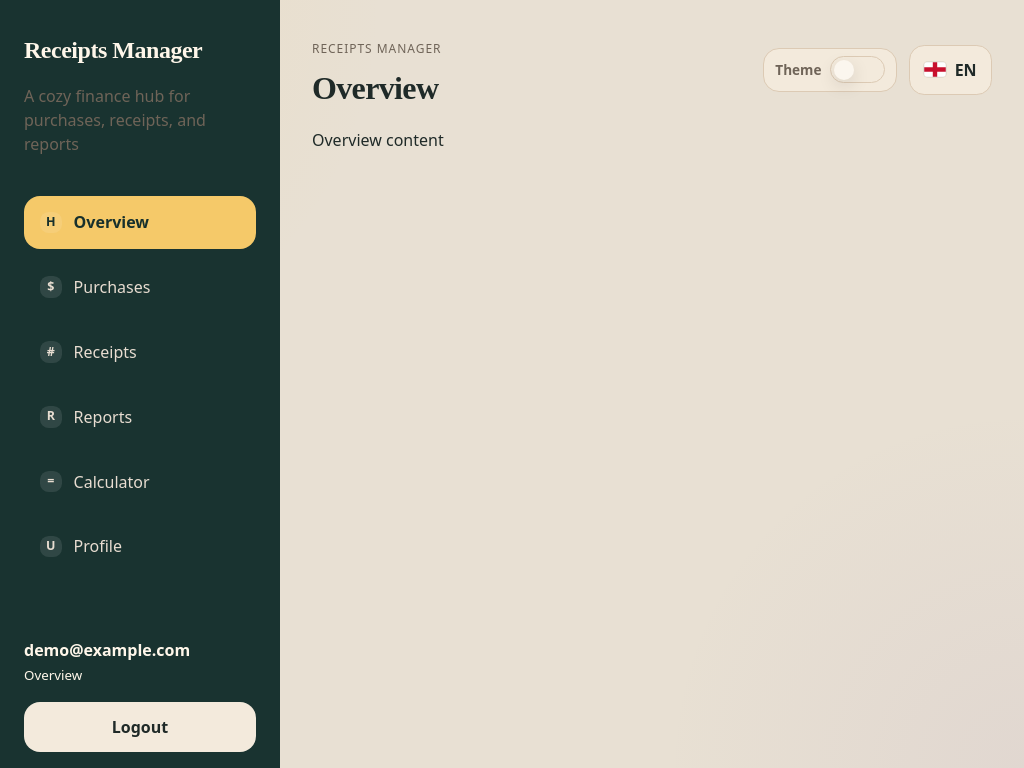
Test case: app layout › opens the calculator from the sidebar and keeps it outside the page content
Check: the element with test id "sidebar" is shown, box [0, 0, 280, 767]
Check: the element with test id "content-area" reads "Overview content", box [312, 129, 444, 151]
Click the button with test id "sidebar-calculator-toggle": (140, 482) [24, 455, 256, 508]
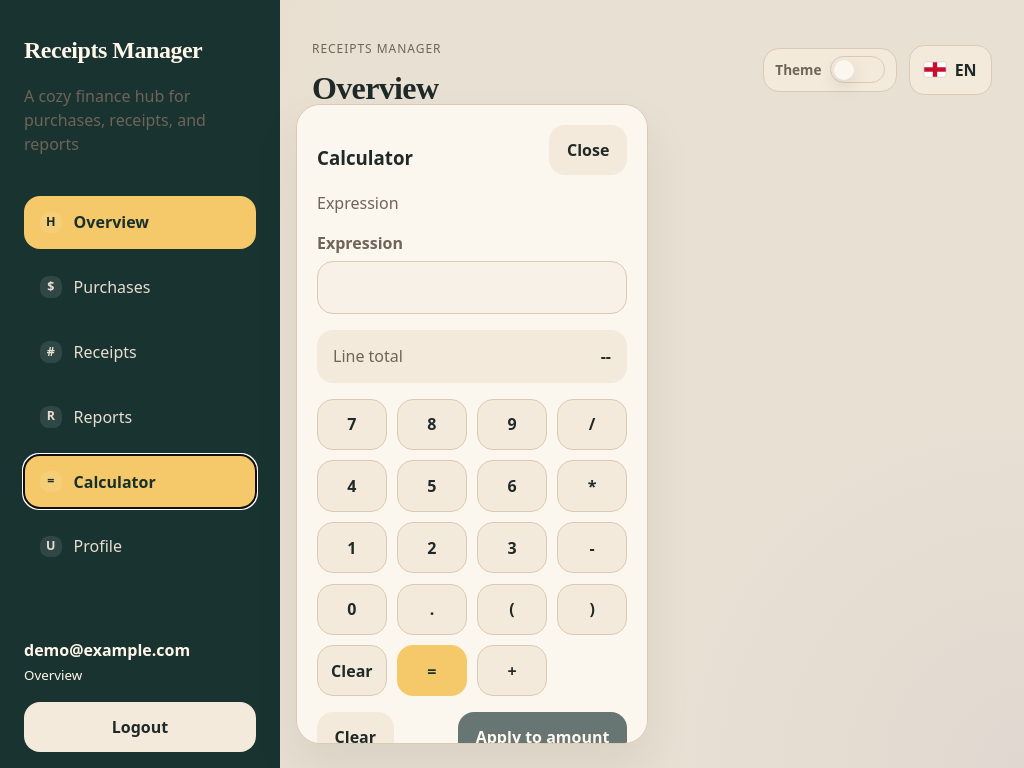
Check: the dialog with test id "calculator-window" is shown, box [296, 104, 648, 744]
Click the button "Close": (588, 150) [549, 125, 627, 175]
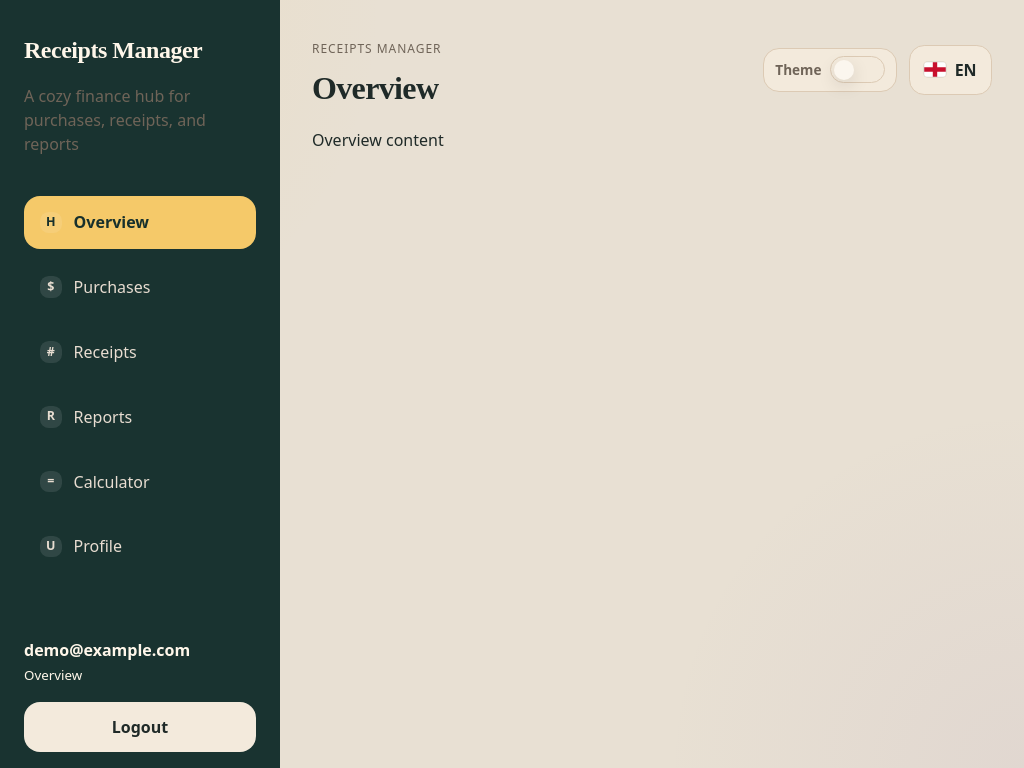
Check: the dialog with test id "calculator-window" is gone
